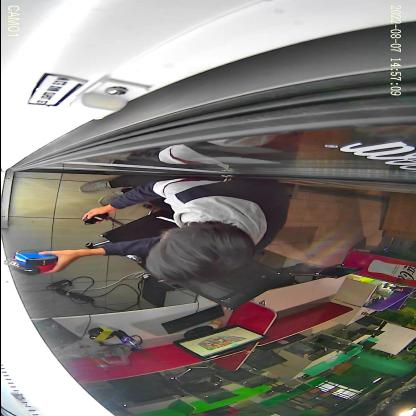blue: (13, 249, 58, 268)
red: (2, 258, 56, 276)
